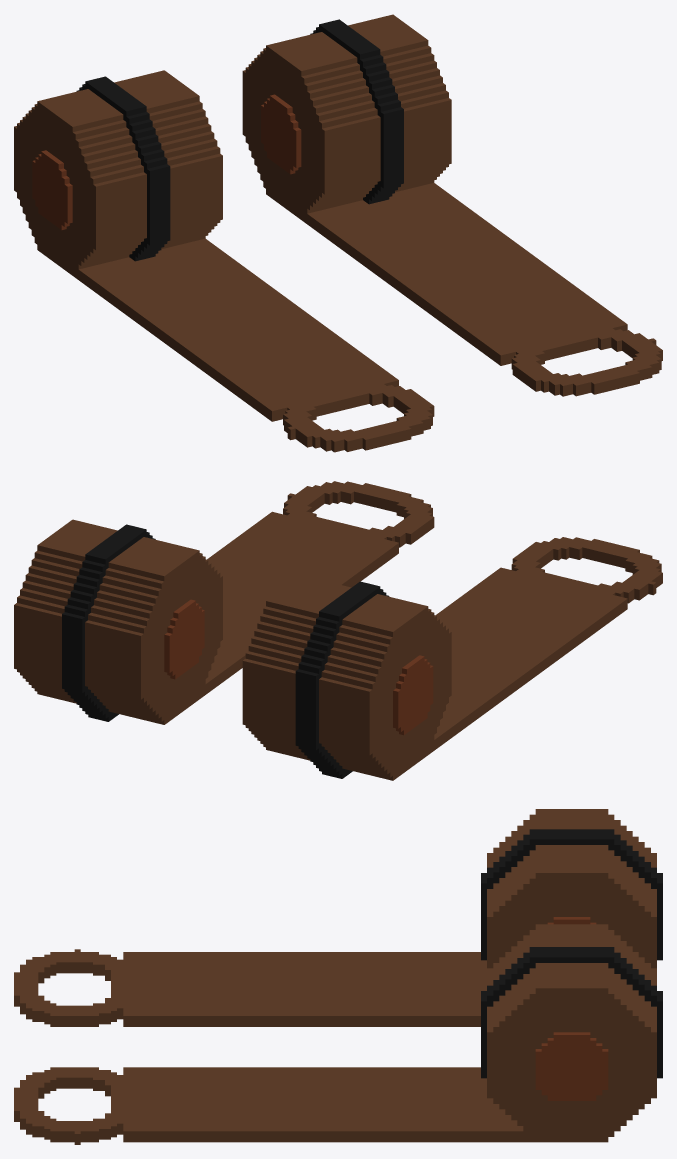
The model's file is gloves_wraps_leather.glb.
3 views of the same model, one above another, from view 1: azimuth 30°, elevation 25°; view 2: azimuth 150°, elevation 25°; view 3: azimuth 270°, elevation 25° (orthographic). The views are drawn at different scales.
Visible parts, largest first — view 1: gloves_wraps_leather:compound; view 2: gloves_wraps_leather:compound; view 3: gloves_wraps_leather:compound.
Boxes of the visible parts, x1,y1,x2,y2 form: gloves_wraps_leather:compound: [14, 14, 662, 452]; gloves_wraps_leather:compound: [14, 481, 662, 780]; gloves_wraps_leather:compound: [14, 809, 662, 1144].
Size of the model in its own units: 0.144 by 0.062 by 0.214.
